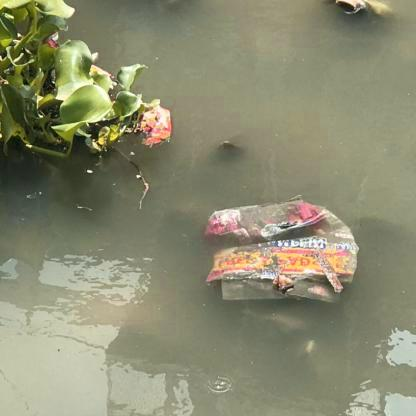Trash: (201, 196, 358, 306)
